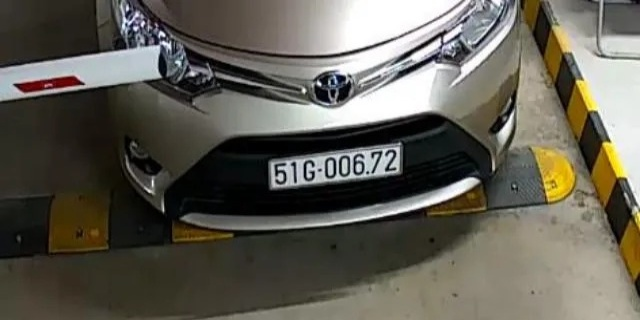bien_so: (271, 151, 400, 183)
